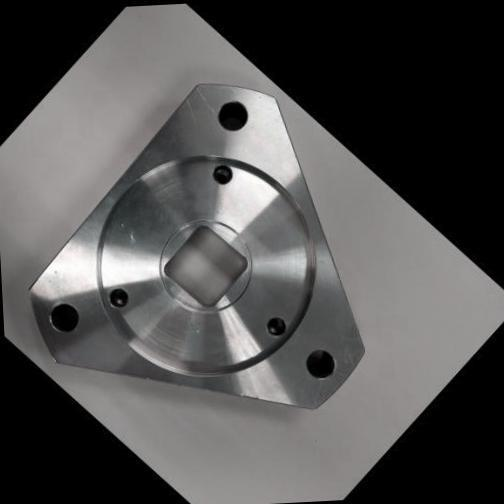hole: (207, 92, 257, 141), (39, 294, 87, 343), (296, 340, 344, 388), (100, 280, 135, 316), (204, 156, 239, 192), (258, 310, 293, 345)
